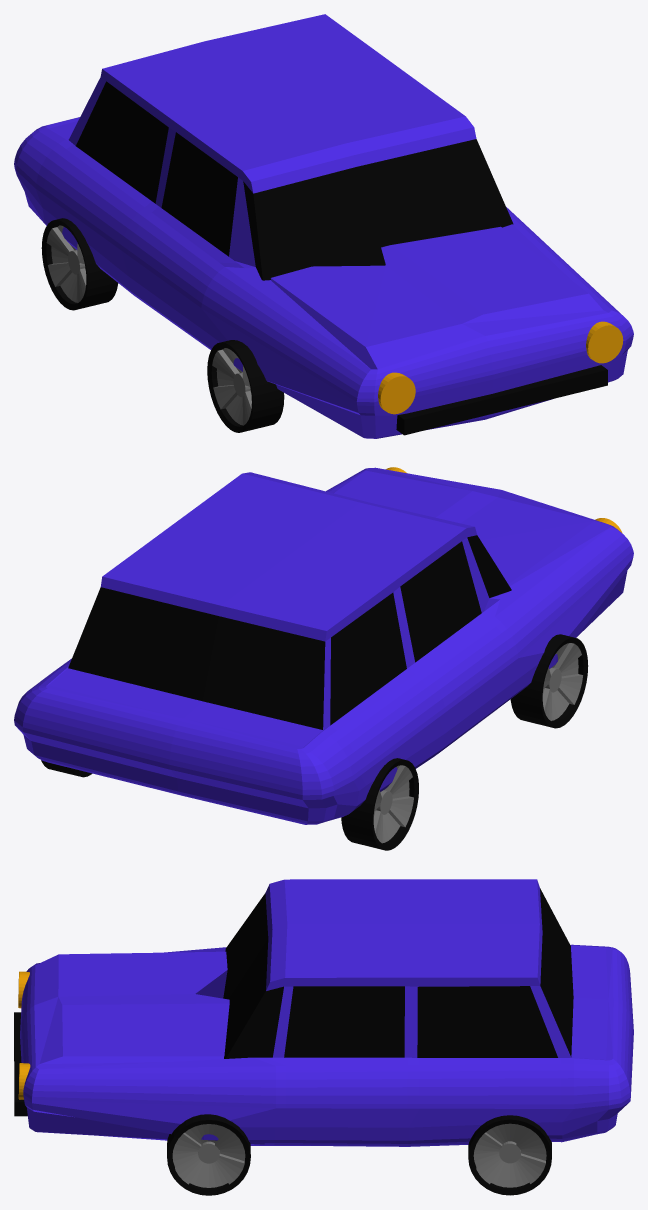
3 renders of one model, top to bottom at view 1: azimuth 30°, elevation 25°; view 2: azimuth 150°, elevation 25°; view 3: azimuth 270°, elevation 25°, orthographic. The views are drawn at different scales.
Visible parts, largest first — view 1: Sphere, wheel.001, Cube, wheel.002, Cylinder.001, Cylinder; view 2: Sphere, wheel.001, wheel.002; view 3: Sphere, wheel, wheel.003, Cube.
Boxes of the visible parts, left/top/right/bottom form: Sphere: left=14, top=14, right=633, bottom=438; wheel.001: left=207, top=340, right=284, bottom=432; Cube: left=396, top=365, right=607, bottom=435; wheel.002: left=41, top=218, right=118, bottom=310; Cylinder.001: left=378, top=372, right=415, bottom=414; Cylinder: left=586, top=321, right=623, bottom=363; Sphere: left=14, top=467, right=633, bottom=824; wheel.001: left=510, top=634, right=588, bottom=728; wheel.002: left=341, top=758, right=418, bottom=850; Sphere: left=20, top=879, right=633, bottom=1146; wheel: left=167, top=1114, right=250, bottom=1195; wheel.003: left=468, top=1115, right=551, bottom=1195; Cube: left=14, top=1012, right=27, bottom=1116.
Bounding box in the file's own units: 765 × 264 × 431.
